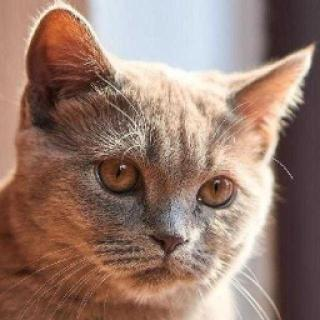cat: (16, 8, 314, 310)
nose: (145, 203, 197, 259)
